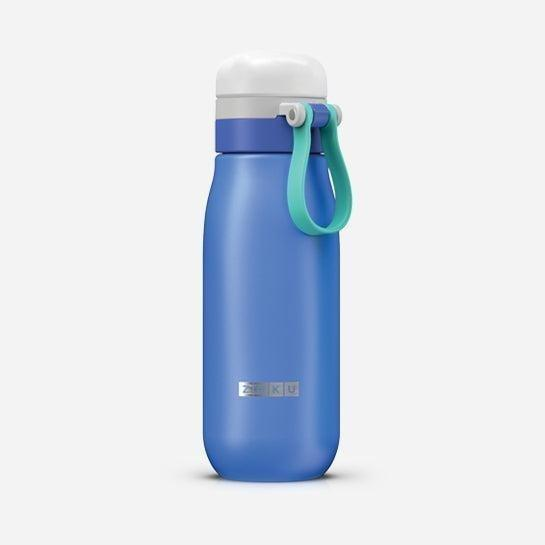gym bottle: (198, 45, 354, 486)
